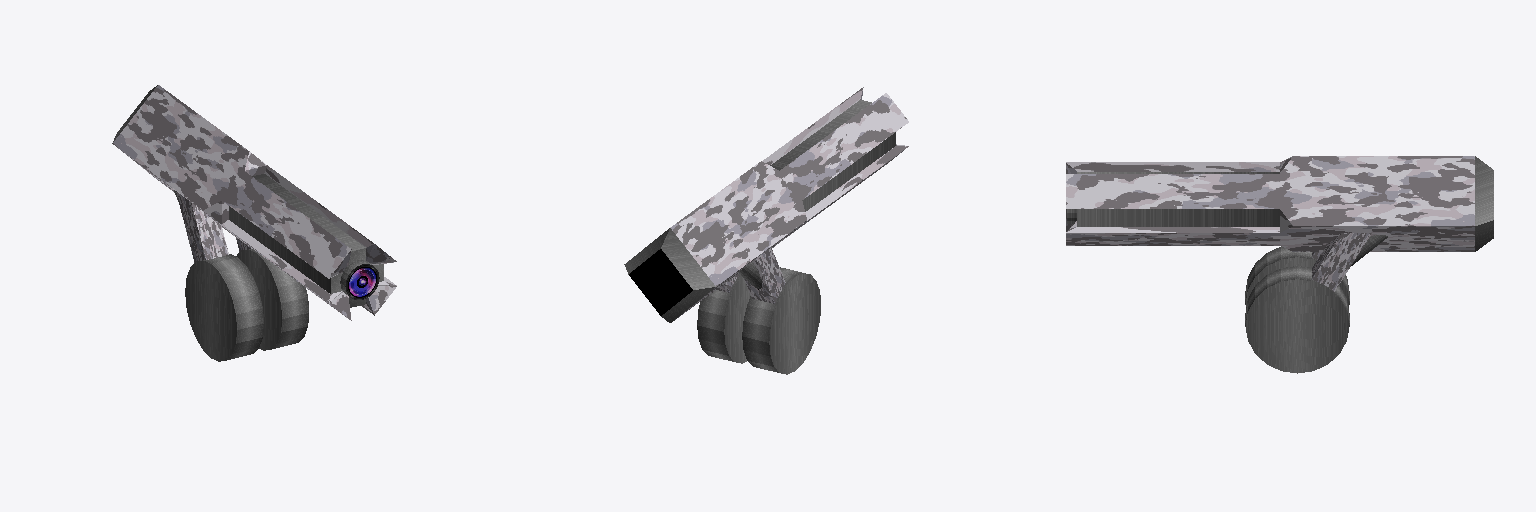
3 renders of one model, left to right at view 1: azimuth 30°, elevation 25°; view 2: azimuth 150°, elevation 25°; view 3: azimuth 270°, elevation 25°, orthographic.
Visible parts, largest first — view 1: pCylinder9; view 2: pCylinder9; view 3: pCylinder9.
Part boxes in pixels (x1,y1,x2,y2): pCylinder9: (112, 85, 396, 361); pCylinder9: (624, 87, 908, 374); pCylinder9: (1066, 156, 1493, 373).
Size of the model in its own units: 2.03 by 4.23 by 8.23.
Materials: 1 (1 with a texture image).